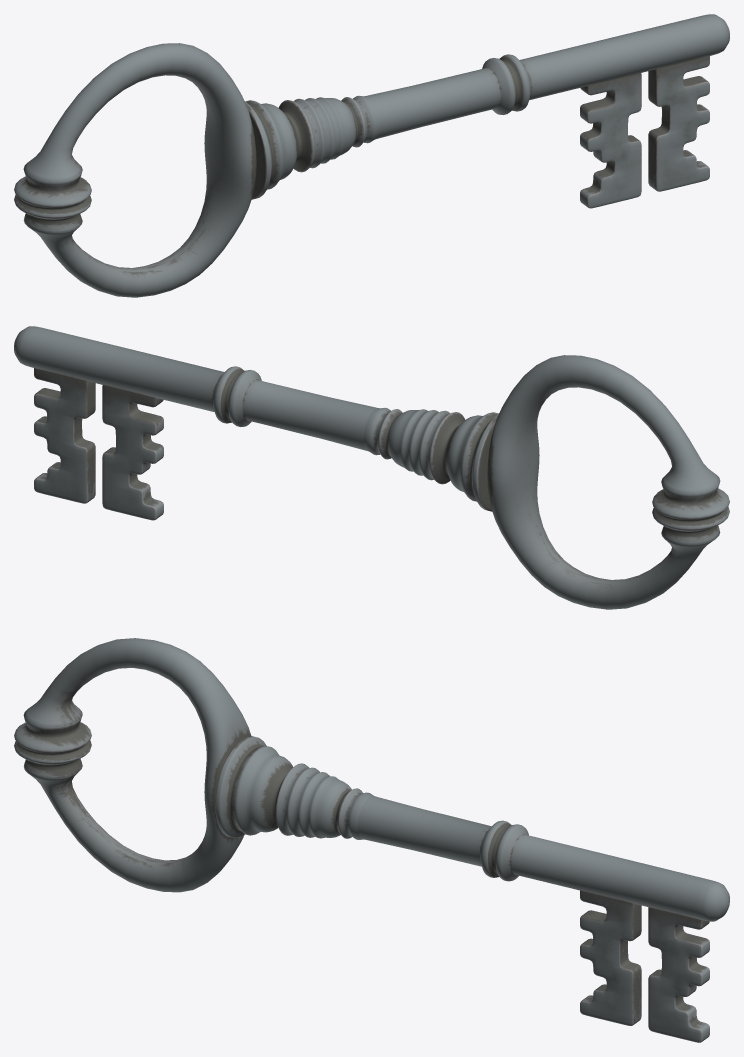
File: key.glb
3 views of the same model, one above another, from view 1: azimuth 30°, elevation 25°; view 2: azimuth 150°, elevation 25°; view 3: azimuth 330°, elevation 25° (orthographic).
Parts seen in each view (by area): view 1: Object_6; view 2: Object_6; view 3: Object_6.
Part boxes in pixels (box(x1,y1,x2,y2)): Object_6: box(14, 14, 729, 297); Object_6: box(14, 326, 729, 609); Object_6: box(14, 638, 729, 1042).
Bounding box in the file's own units: 0.4995 × 0.1782 × 0.0633.
1 material, 1 textured.
